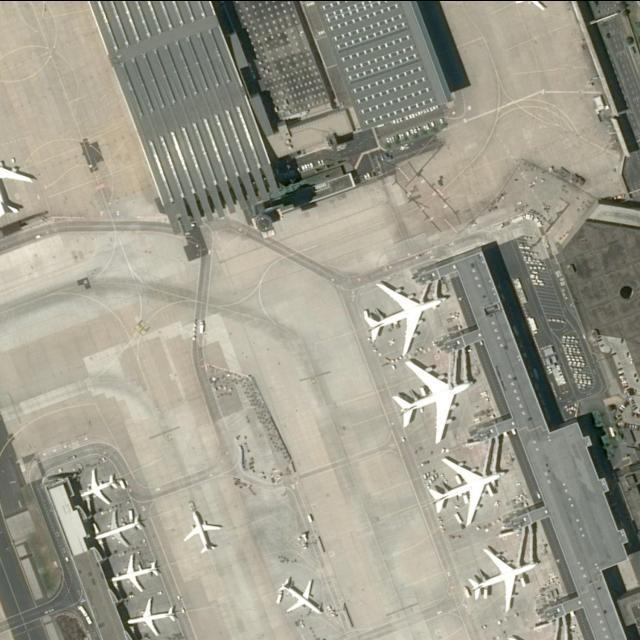Aircraft: (392, 355, 482, 437), (364, 263, 446, 349), (425, 450, 513, 528), (464, 545, 545, 608), (0, 137, 38, 217), (276, 575, 332, 622), (126, 598, 180, 638), (95, 509, 146, 550), (183, 505, 223, 554), (106, 554, 152, 594), (78, 469, 125, 504)
